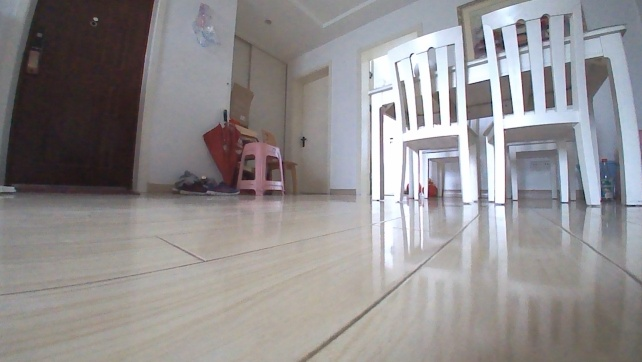blanket: (13, 182, 141, 195)
dining_table: (363, 0, 641, 210)
door_anno: (0, 0, 166, 203), (287, 59, 334, 201)
shoe: (204, 181, 239, 197)
